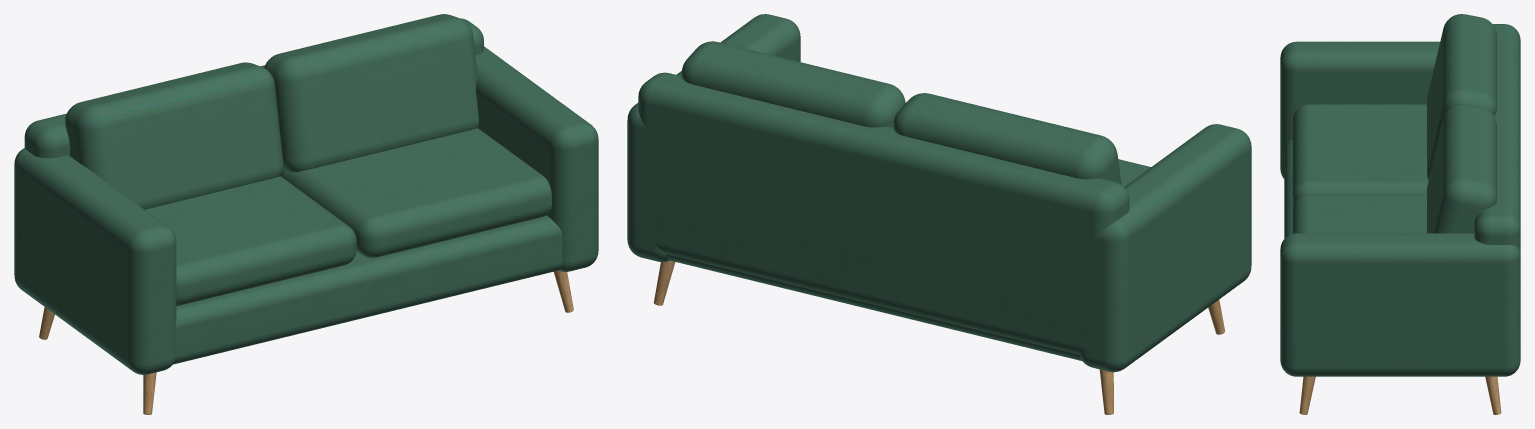
File: sofa.glb
The picture shows the model from 3 angles, left to right: view 1: azimuth 30°, elevation 25°; view 2: azimuth 150°, elevation 25°; view 3: azimuth 270°, elevation 25°; orthographic projection. The views are drawn at different scales.
Visible parts, largest first — view 1: Cube; view 2: Cube; view 3: Cube.
Boxes of the visible parts, x1=… form: Cube: x1=14, y1=14, x2=598, y2=414; Cube: x1=627, y1=14, x2=1251, y2=414; Cube: x1=1280, y1=14, x2=1520, y2=414.
Size of the model in its own units: 1.84 by 0.8961 by 0.88.
Materials: 1 (1 with a texture image).
